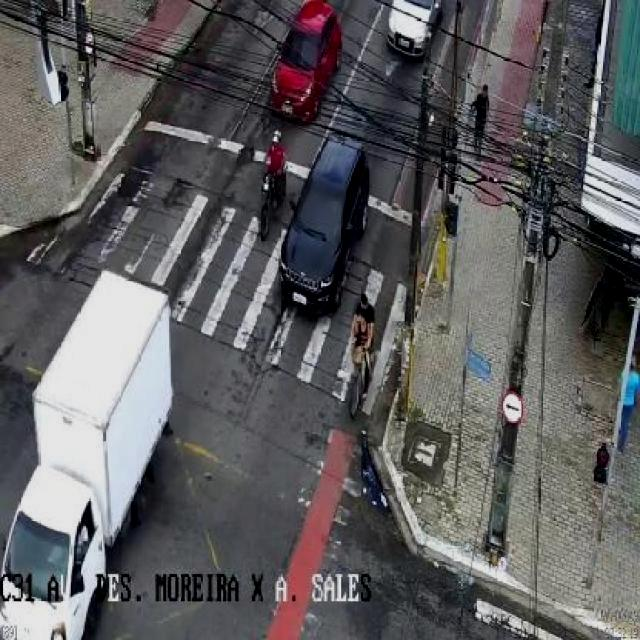Car: (266, 134, 382, 319), (262, 3, 349, 124), (382, 0, 442, 62)
Cycle: (342, 302, 390, 404), (256, 125, 298, 237)
Truck: (0, 260, 175, 639)
